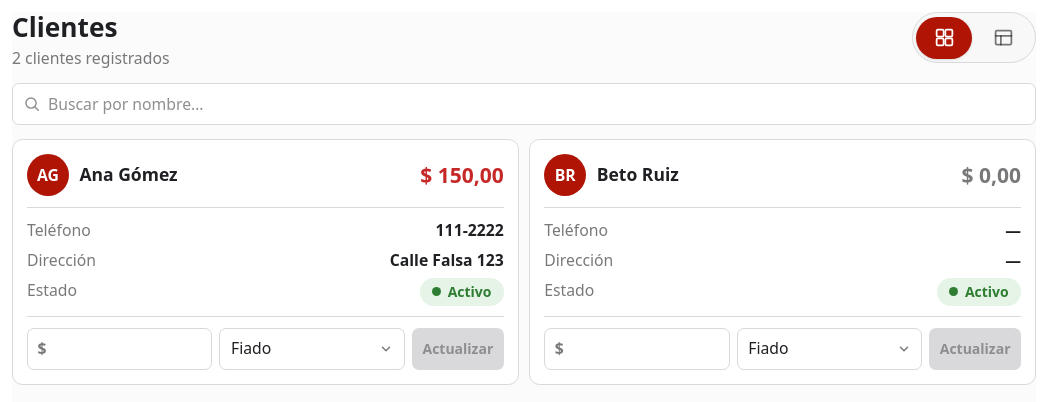
Test: CustomersPage › shows the card/table view toggle once there are customers, and switches views
Expected: the button named "Ver como tarjetas" is shown, [916,16,972,58]
Click the button named "Ver como tabla" at (1004, 38), box [976,16,1032,58]
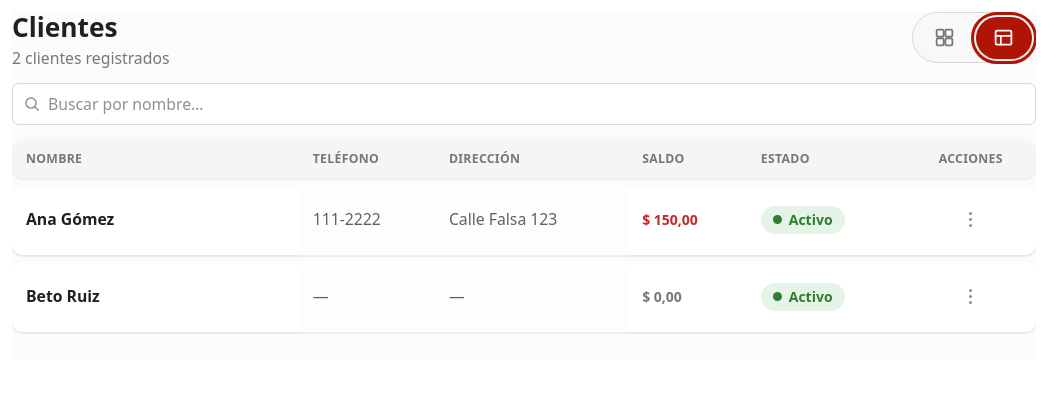
Expected: the table is shown, [12,139,1036,338]
